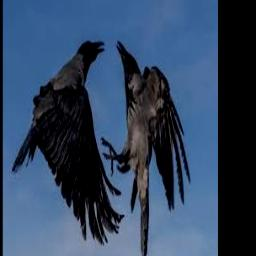Crow: (12, 40, 124, 244), (102, 40, 191, 256)
